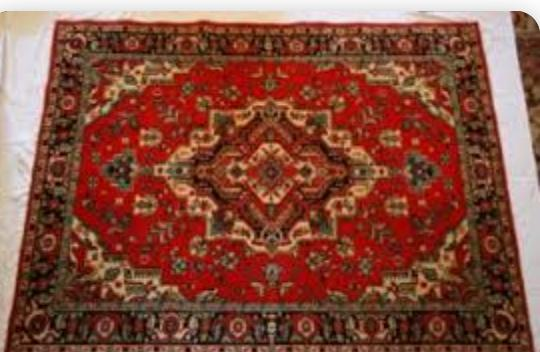carpet: (8, 21, 533, 352)
